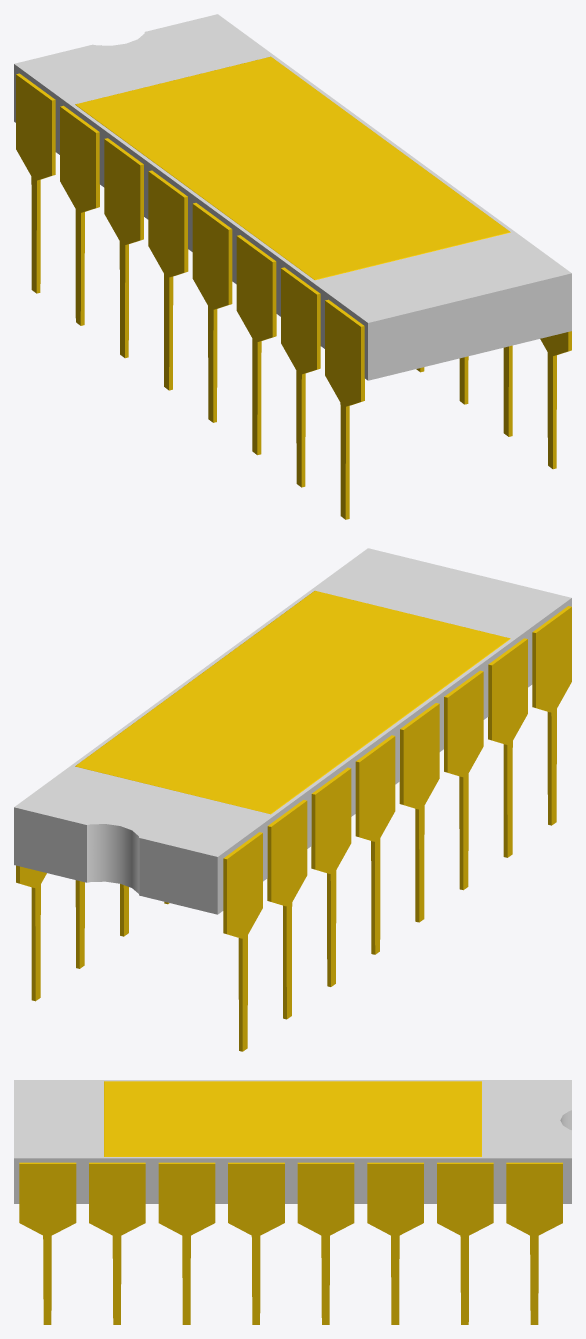
File: intel-4004.glb
3 renders of one model, top to bottom at view 1: azimuth 30°, elevation 25°; view 2: azimuth 150°, elevation 25°; view 3: azimuth 270°, elevation 25°, orthographic. The views are drawn at different scales.
Visible parts, largest first — view 1: Cube_1_Mat.2_0, Cube_1_Mat_0, Cube_1_Mat.1_0; view 2: Cube_1_Mat.2_0, Cube_1_Mat.1_0, Cube_1_Mat_0, Cube_1__0; view 3: Cube_1_Mat.1_0, Cube_1_Mat.2_0, Cube_1_Mat_0.
Boxes of the visible parts, <box> form: Cube_1_Mat.2_0: <box>75,56,510,280</box>; Cube_1_Mat_0: <box>14,14,571,380</box>; Cube_1_Mat.1_0: <box>16,73,571,519</box>; Cube_1_Mat.2_0: <box>75,590,510,814</box>; Cube_1_Mat.1_0: <box>16,606,571,1051</box>; Cube_1_Mat_0: <box>14,548,571,914</box>; Cube_1__0: <box>87,824,139,894</box>; Cube_1_Mat.1_0: <box>19,1162,562,1324</box>; Cube_1_Mat.2_0: <box>104,1081,481,1156</box>; Cube_1_Mat_0: <box>14,1080,571,1203</box>.
Size of the model in its own units: 0.1104 by 0.1051 by 0.3209.
